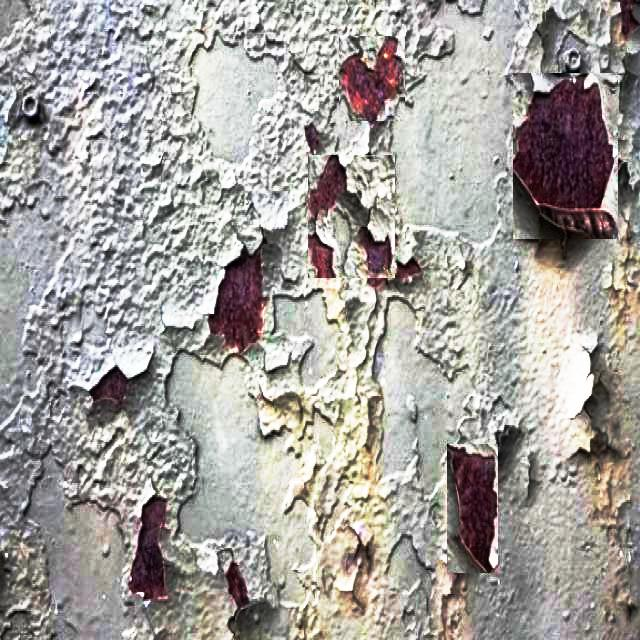Corrosion: (514, 76, 613, 208), (448, 447, 497, 572), (208, 249, 261, 352), (340, 37, 401, 122), (129, 498, 165, 601), (308, 155, 346, 216), (89, 368, 127, 406), (360, 228, 391, 274), (308, 234, 335, 278), (225, 563, 248, 610), (396, 259, 421, 280), (304, 123, 320, 154)
